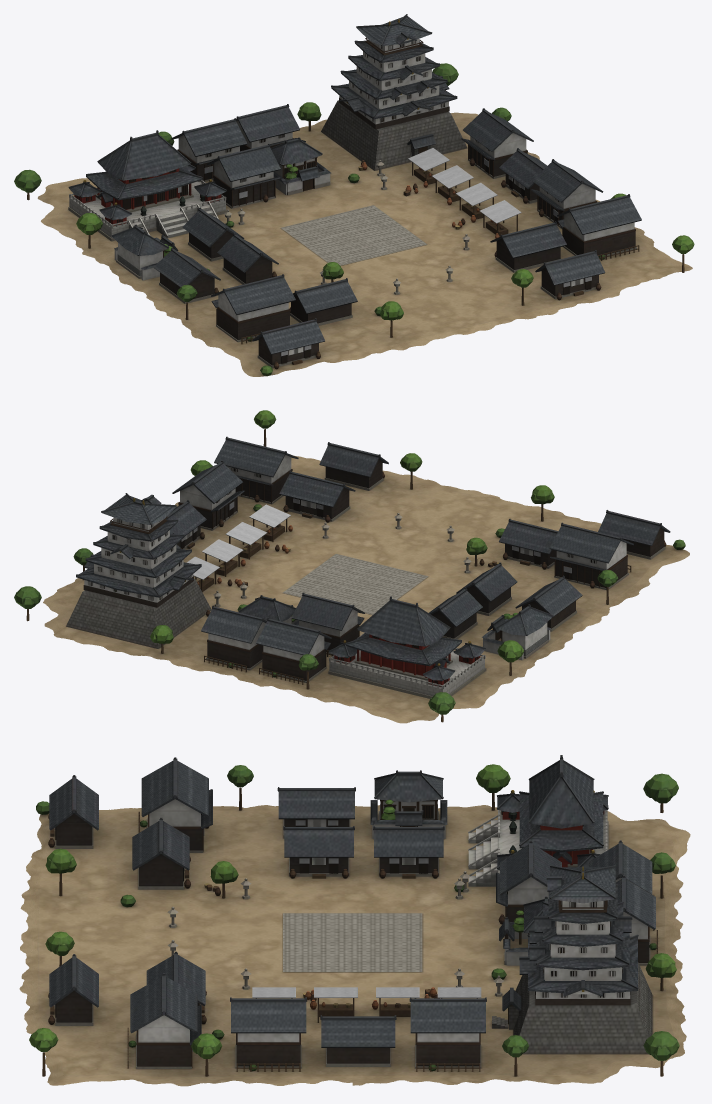
File: gunpowder-town-medium-a-japan.glb
3 renders of one model, top to bottom at view 1: azimuth 30°, elevation 25°; view 2: azimuth 150°, elevation 25°; view 3: azimuth 270°, elevation 25°, orthographic. The views are drawn at different scales.
Parts seen in each view (by area): view 1: LOD0; view 2: LOD0; view 3: LOD0.
Part boxes in pixels (x1=…): LOD0: x1=14, y1=14, x2=694, y2=376; LOD0: x1=14, y1=410, x2=689, y2=723; LOD0: x1=19, y1=755, x2=690, y2=1086.
Size of what is drawn, in the model's own units: 6.03 by 1.55 by 6.09.
3 materials, 3 textured.
